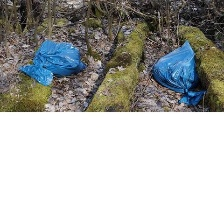plastic_bag: (146, 37, 210, 105), (11, 34, 87, 91)
